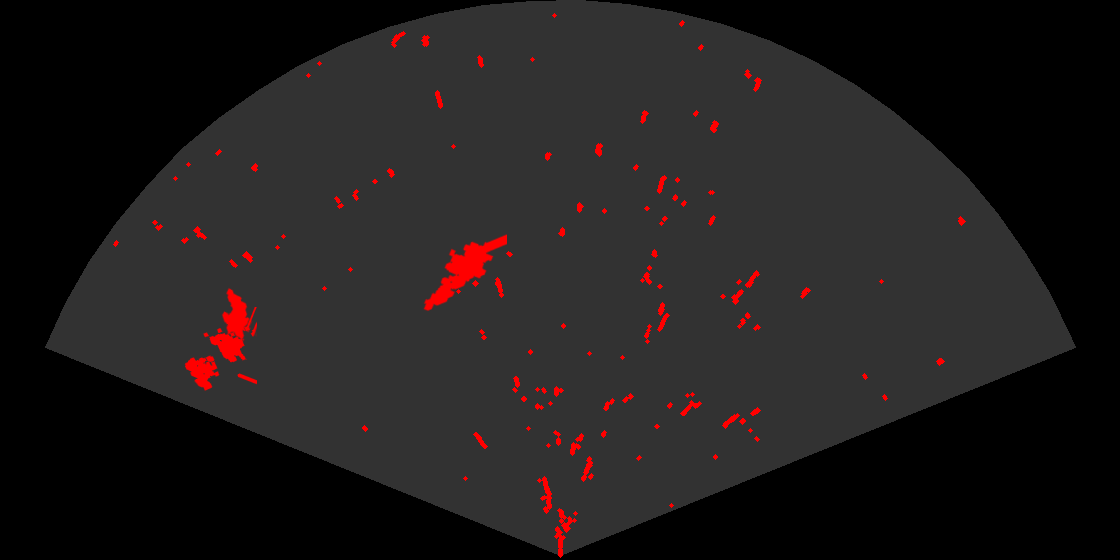AUV: (220, 286, 254, 346)
cage: (183, 307, 257, 392)
frogman: (422, 233, 507, 313)
